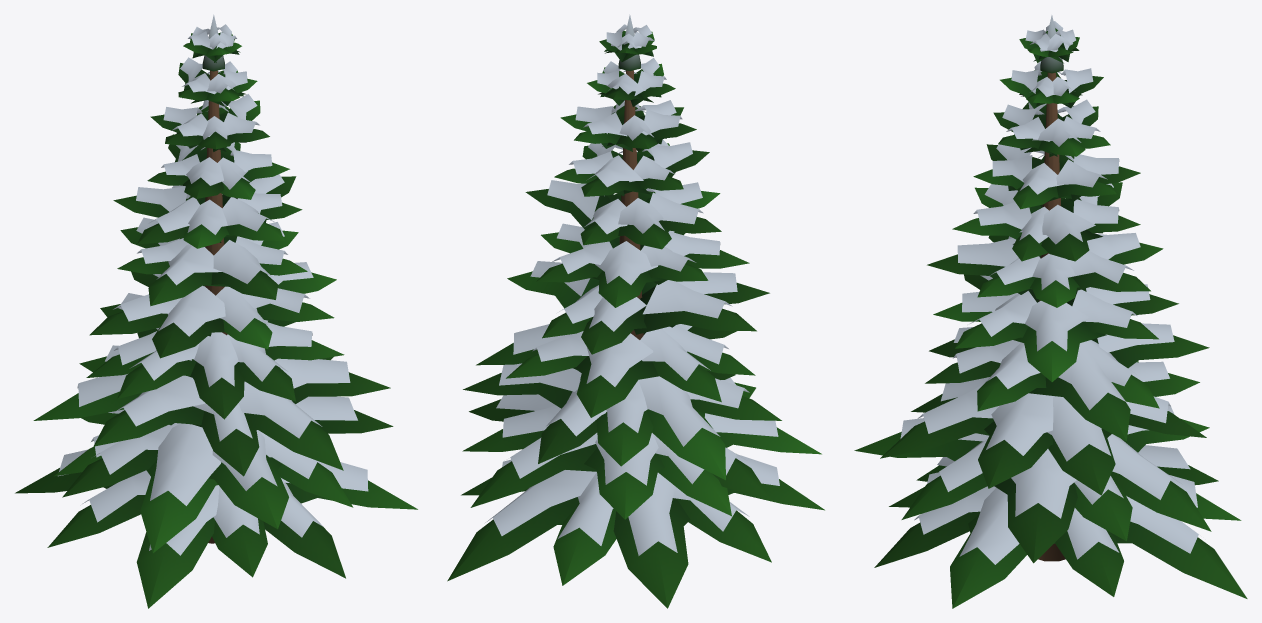
Rendered from fir_snow.glb.
3 views of the same model, side by side, from view 1: azimuth 30°, elevation 25°; view 2: azimuth 150°, elevation 25°; view 3: azimuth 270°, elevation 25° (orthographic). The views are drawn at different scales.
Parts seen in each view (by area): view 1: FirLeaves, FirTrunk; view 2: FirLeaves, FirTrunk; view 3: FirLeaves, FirTrunk.
Boxes of the visible parts, left/top/right/bottom form: FirLeaves: left=15, top=14, right=417, bottom=608; FirTrunk: left=205, top=70, right=227, bottom=543; FirLeaves: left=447, top=14, right=824, bottom=608; FirTrunk: left=619, top=70, right=643, bottom=339; FirLeaves: left=854, top=15, right=1247, bottom=608; FirTrunk: left=1038, top=72, right=1065, bottom=561.
Size of the model in its own units: 1.31 by 2.01 by 1.33.
